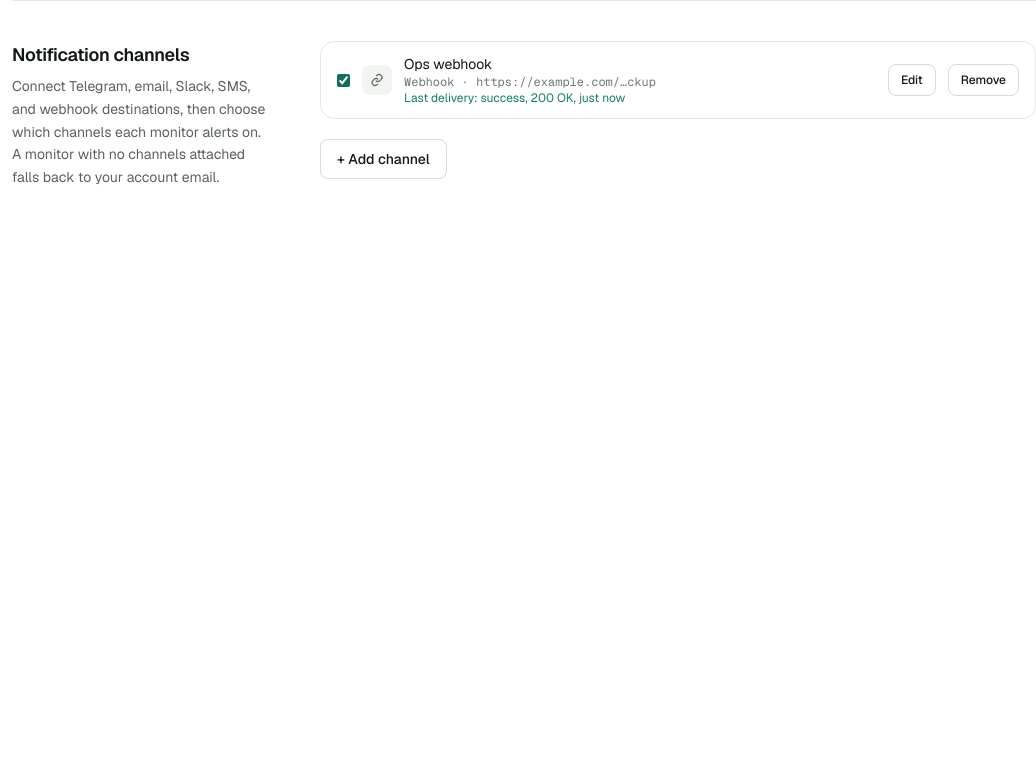
Test: NotificationChannelsCard › populates the form when editing a webhook channel, including its secret
The image size is (1036, 768).
Click the button "Edit".
click(912, 80)  # box [888,64,936,96]
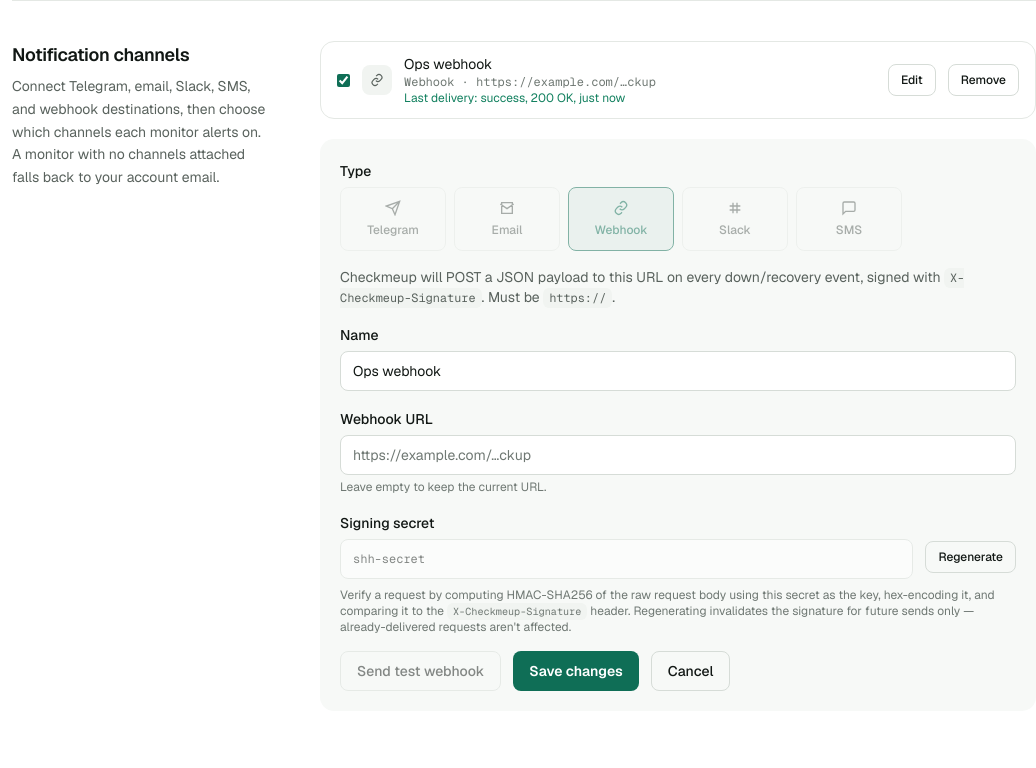
Expected: the button with test id "channel-type-option" reads "Webhook", [568,187,674,251]
Expected: the field with id "channel-name" holds "Ops webhook", [340,351,1016,391]
Expected: the field with id "channel-value" is empty, [340,435,1016,475]
